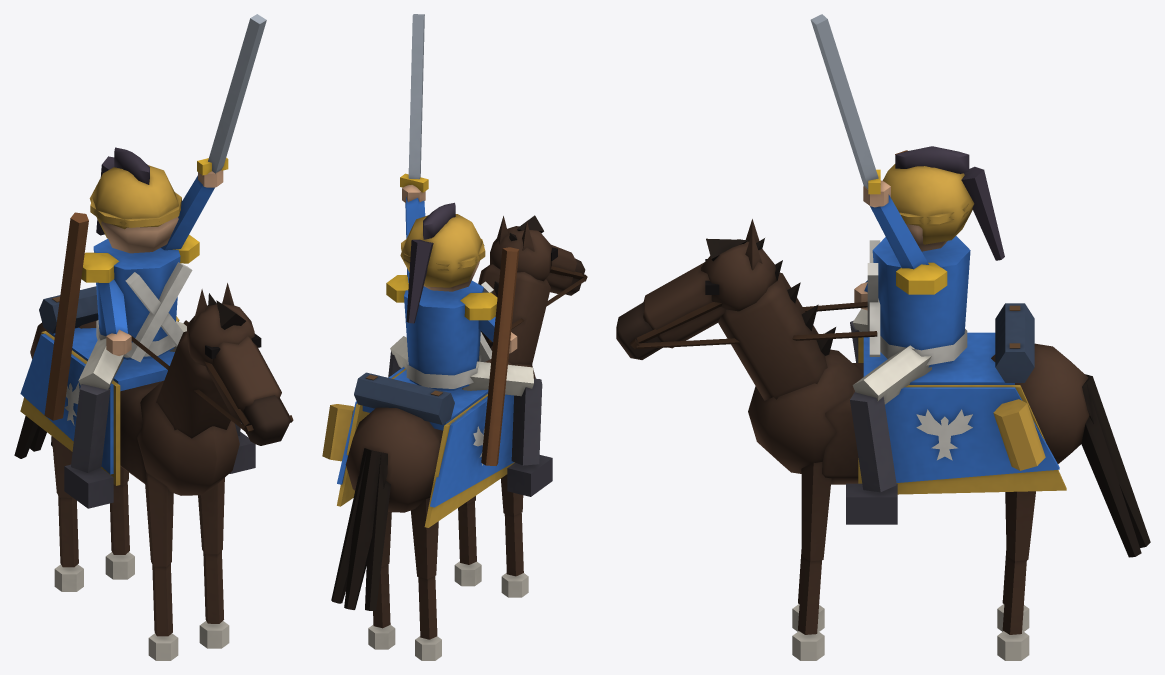
The model's file is assault_dl4_blue.glb.
3 renders of one model, left to right at view 1: azimuth 30°, elevation 25°; view 2: azimuth 150°, elevation 25°; view 3: azimuth 270°, elevation 25°, orthographic. The views are drawn at different scales.
Parts seen in each view (by area): view 1: assault_dl4_blue; view 2: assault_dl4_blue; view 3: assault_dl4_blue.
Boxes of the visible parts, x1,y1,x2,y2 form: assault_dl4_blue: (14,14,293,660); assault_dl4_blue: (322,14,587,660); assault_dl4_blue: (616,14,1150,660).
Bounding box in the file's own units: 0.2399 × 0.8222 × 0.6004.
Materials: 1 (1 with a texture image).
